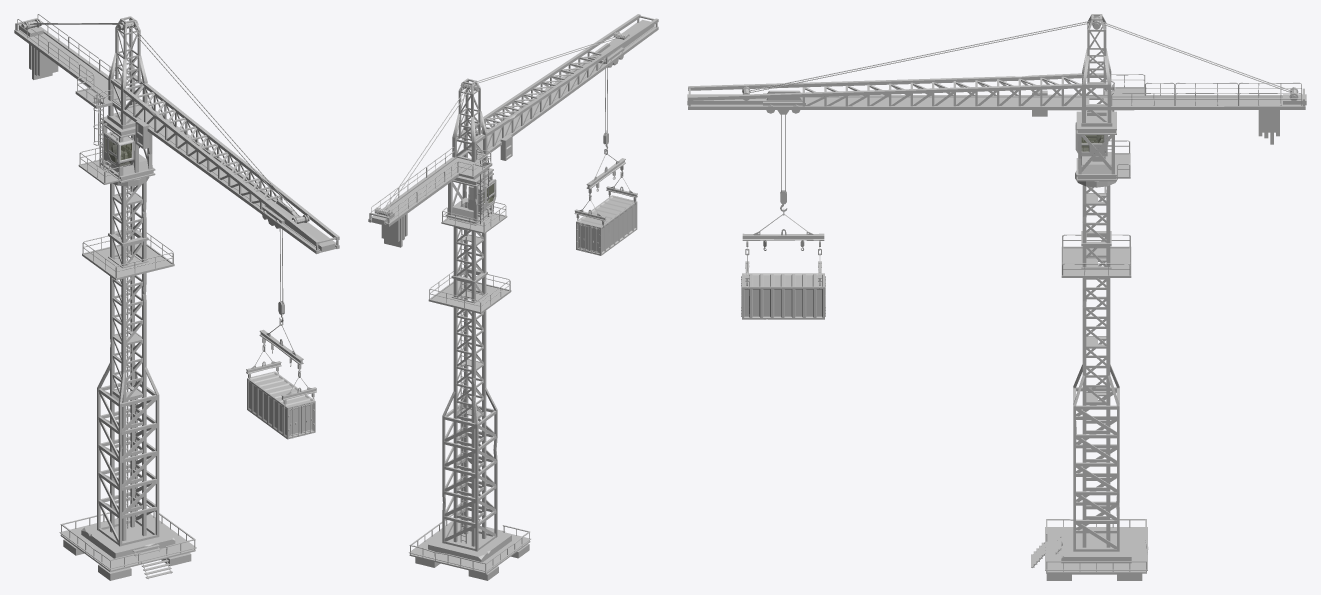
The model's file is SM_Bld_Crane_01.fbx.
The picture shows the model from 3 angles, left to right: view 1: azimuth 30°, elevation 25°; view 2: azimuth 150°, elevation 25°; view 3: azimuth 270°, elevation 25°; orthographic projection. The views are drawn at different scales.
Parts seen in each view (by area): view 1: SM_Bld_Crane_Top_01, SM_Bld_Crane_01, SM_Bld_Crane_Section_01, SM_Bld_Crane_Hook_Container_01, SM_Bld_Crane_Hook_Beams_01; view 2: SM_Bld_Crane_Top_01, SM_Bld_Crane_01, SM_Bld_Crane_Section_01, SM_Bld_Crane_Hook_Container_01, SM_Bld_Crane_Hook_Beams_01; view 3: SM_Bld_Crane_Top_01, SM_Bld_Crane_01, SM_Bld_Crane_Hook_Container_01, SM_Bld_Crane_Section_01, SM_Bld_Crane_Hook_Beams_01.
Part boxes in pixels (<box>): SM_Bld_Crane_Top_01: <box>14,14,339,254</box>; SM_Bld_Crane_01: <box>59,232,196,580</box>; SM_Bld_Crane_Section_01: <box>82,182,174,280</box>; SM_Bld_Crane_Hook_Container_01: <box>247,371,315,439</box>; SM_Bld_Crane_Hook_Beams_01: <box>246,319,316,407</box>; SM_Bld_Crane_Top_01: <box>368,14,658,247</box>; SM_Bld_Crane_01: <box>409,271,530,580</box>; SM_Bld_Crane_Section_01: <box>428,227,511,313</box>; SM_Bld_Crane_Hook_Container_01: <box>576,195,637,255</box>; SM_Bld_Crane_Hook_Beams_01: <box>574,149,637,227</box>; SM_Bld_Crane_Top_01: <box>687,14,1306,192</box>; SM_Bld_Crane_01: <box>1031,235,1148,580</box>; SM_Bld_Crane_Hook_Container_01: <box>741,273,825,319</box>; SM_Bld_Crane_Section_01: <box>1061,185,1131,277</box>; SM_Bld_Crane_Hook_Beams_01: <box>742,208,824,288</box>.
Size of the model in its own units: 749 by 4392 by 4518.
